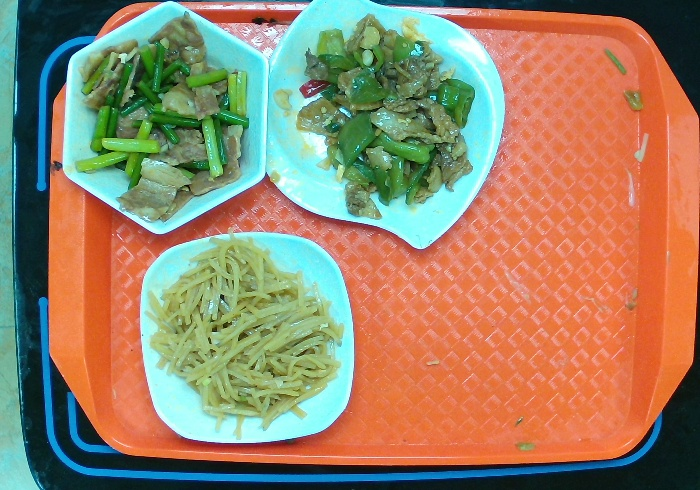RJxy-Liu_Jiao_Wan: (61, 1, 271, 235)
RJxy-Shuang_Jiao_Pan: (264, 1, 507, 250)
RJxy-Si_Fang_Wan: (138, 230, 356, 446)
